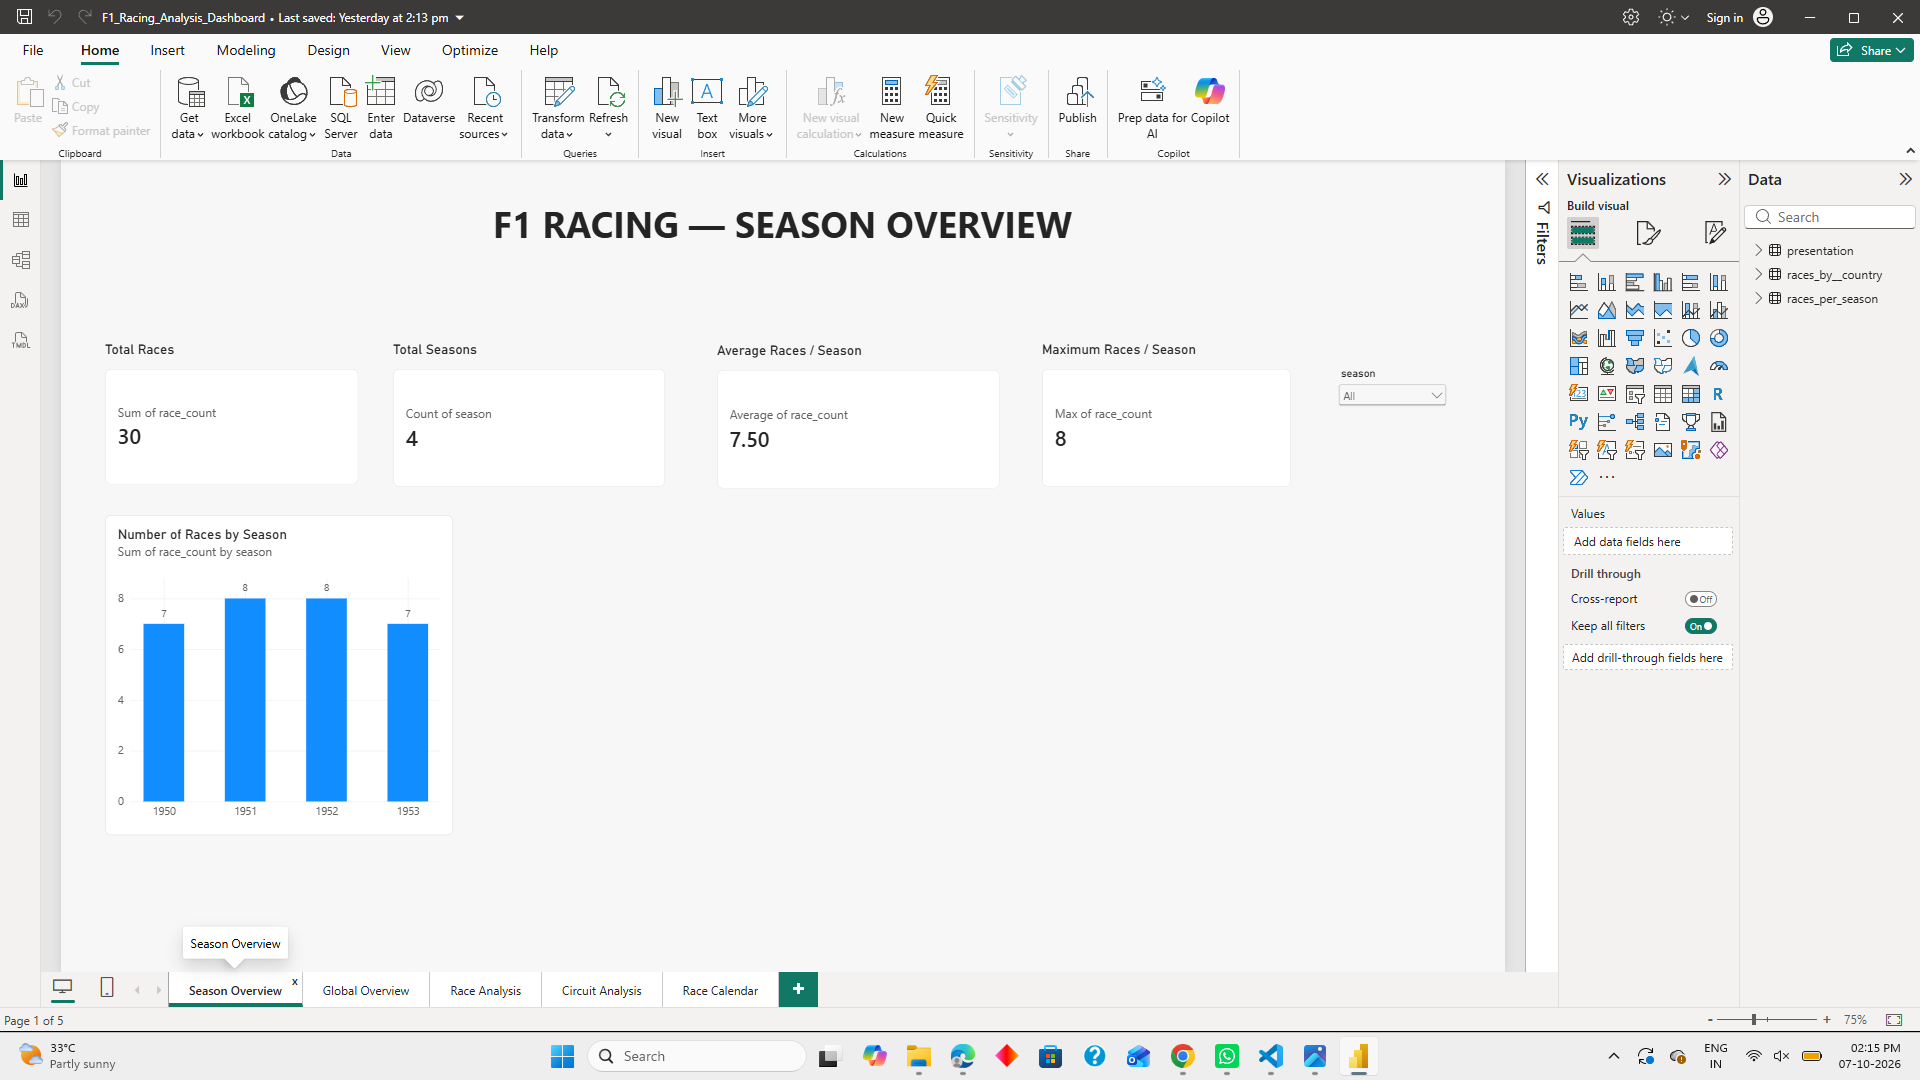

The dashboard page shown, as its layout file describes it:
{"tool":"powerbi","page":{"name":"Season Overview","canvas":[1920,1080],"ordinal":0},"visuals":[{"type":"cardVisual","title":"Total Races","fields":{"Data":["Sum(races_per_season.race_count)"]},"box":[58.2,240.3,337.3,191],"z":0},{"type":"cardVisual","title":"Total Seasons","fields":{"Data":["Count(races_per_season.season)"]},"box":[441.8,240.3,362.7,194],"z":1000},{"type":"cardVisual","title":"Average Races / Season","fields":{"Data":["Avg(races_per_season.race_count)"]},"box":[873.1,241.8,376.1,195.5],"z":2000},{"type":"cardVisual","title":"Maximum Races / Season","fields":{"Data":["Max(races_per_season.race_count)"]},"box":[1304.5,240.3,331.3,194],"z":3000},{"type":"clusteredColumnChart","title":"Number of Races by Season","fields":{"Category":["races_per_season.season"],"Y":["Sum(races_per_season.race_count)"]},"box":[58.2,471.6,463,426],"z":4000},{"type":"slicer","fields":{"Values":["races_per_season.season"]},"box":[1695,275,153.4,127.4],"z":5000},{"type":"textbox","box":[0,52.2,1919.4,82.1],"z":6000}]}

Visuals, with their boxes on the page's 1920x1080 design canvas (x1, y1, x2, y2). These are canvas units, not pixel positions in the 1920x1080 screenshot, which may show the page scaled, cropped or inside an application window:
"Total Races" cardVisual: (58, 240, 396, 431)
"Total Seasons" cardVisual: (442, 240, 804, 434)
"Average Races / Season" cardVisual: (873, 242, 1249, 437)
"Maximum Races / Season" cardVisual: (1304, 240, 1636, 434)
"Number of Races by Season" clusteredColumnChart: (58, 472, 521, 898)
slicer - races_per_season.season: (1695, 275, 1848, 402)
textbox: (0, 52, 1919, 134)
